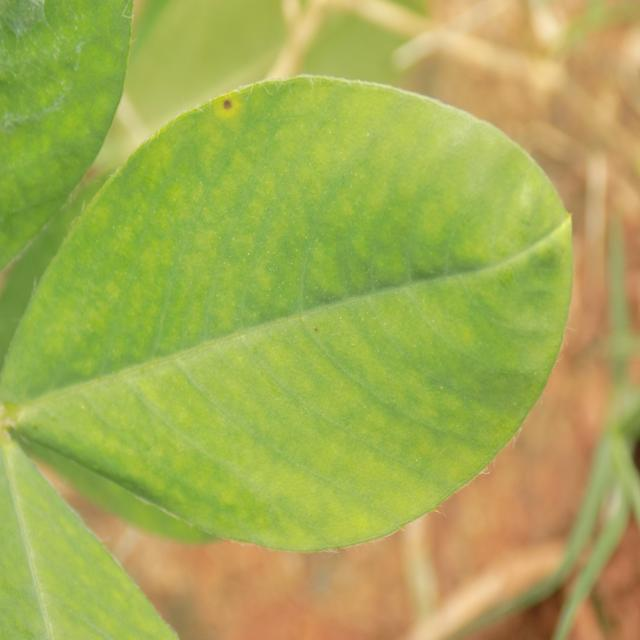Ground nut_healthy: (0, 78, 583, 561)
